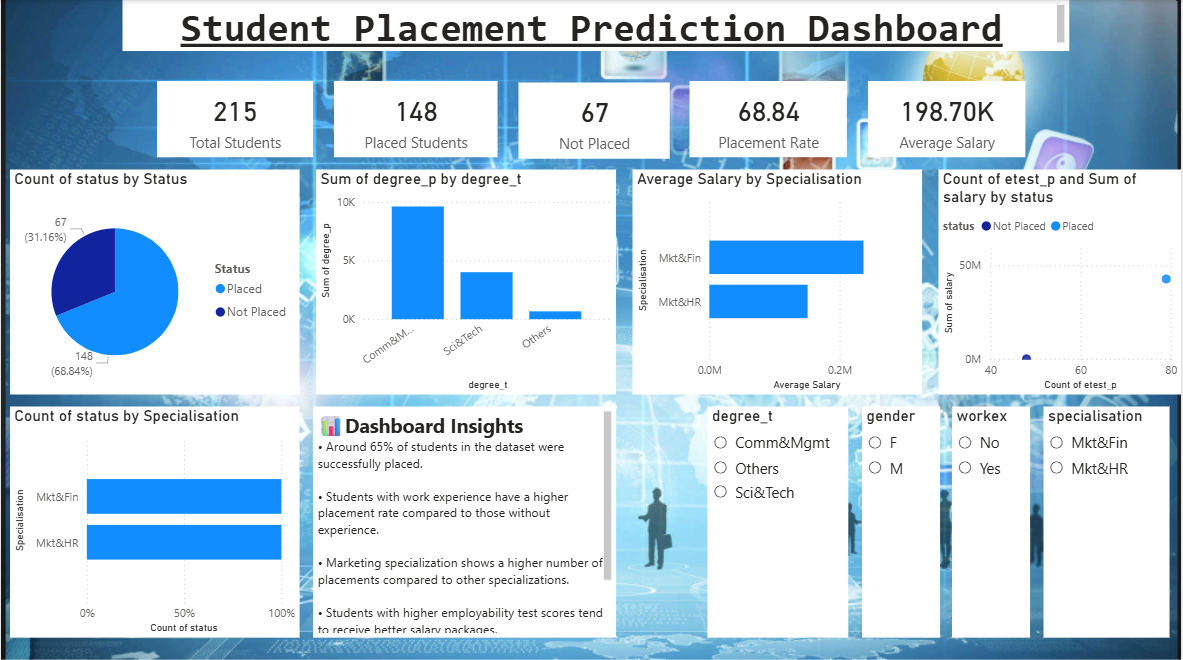

What the dashboard file says about the page in this screenshot:
{"tool":"powerbi","page":{"name":"Page 1","canvas":[1280,720],"ordinal":0},"visuals":[{"type":"textbox","box":[131.8,0,1026.3,55.3],"z":0},{"type":"card","fields":{"Values":["Placement_Data_Full_Class.Total Students"]},"box":[169.2,87.8,169.2,83],"z":1000},{"type":"card","fields":{"Values":["Placement_Data_Full_Class.Placed Students"]},"box":[360.7,87.8,177.3,83],"z":2000},{"type":"card","fields":{"Values":["Placement_Data_Full_Class.Not Placed"]},"box":[560.3,89.5,164.3,83],"z":3000},{"type":"card","fields":{"Values":["Placement_Data_Full_Class.Placement Rate"]},"box":[747,87.8,170.8,83],"z":4000},{"type":"card","fields":{"Values":["Placement_Data_Full_Class.Average Salary"]},"box":[940.1,87.8,170.8,83],"z":5000},{"type":"hundredPercentStackedBarChart","fields":{"Category":["Placement_Data_Full_Class.specialisation"],"Y":["CountNonNull(Placement_Data_Full_Class.status)"]},"box":[9.8,440.8,313.9,250.5],"z":6000},{"type":"pieChart","fields":{"Category":["Placement_Data_Full_Class.status"],"Y":["CountNonNull(Placement_Data_Full_Class.status)"]},"box":[9.8,183.8,313.9,244],"z":7000},{"type":"columnChart","fields":{"Category":["Placement_Data_Full_Class.degree_t"],"Y":["Sum(Placement_Data_Full_Class.degree_p)"]},"box":[341.6,183.8,325.3,244],"z":8000},{"type":"barChart","fields":{"Category":["Placement_Data_Full_Class.specialisation"],"Y":["Placement_Data_Full_Class.Average Salary"]},"box":[684.8,183.8,313.9,244],"z":9000},{"type":"scatterChart","fields":{"X":["Count(Placement_Data_Full_Class.etest_p)"],"Y":["Sum(Placement_Data_Full_Class.salary)"],"Series":["Placement_Data_Full_Class.status"]},"box":[1016.5,183.8,263.5,244],"z":10000},{"type":"listSlicer","fields":{"Values":["Placement_Data_Full_Class.gender"]},"box":[933.1,440.8,84.6,250.5],"z":11000},{"type":"listSlicer","fields":{"Values":["Placement_Data_Full_Class.specialisation"]},"box":[1130.4,440.8,136.6,250.5],"z":12000},{"type":"listSlicer","fields":{"Values":["Placement_Data_Full_Class.degree_t"]},"box":[766.1,440.8,152.9,250.5],"z":13000},{"type":"listSlicer","fields":{"Values":["Placement_Data_Full_Class.workex"]},"box":[1031.8,440.8,84.6,250.5],"z":14000},{"type":"textbox","box":[338.3,440.8,328.6,250.5],"z":15000}]}

Visuals, with their boxes in screenshot pixels (x1, y1, x2, y2), scaled from the page's 1280x720 canvas onto the 1183x660 screenshot:
textbox: (left=122, top=0, right=1070, bottom=51)
card - Placement_Data_Full_Class.Total Students: (left=156, top=80, right=313, bottom=157)
card - Placement_Data_Full_Class.Placed Students: (left=333, top=80, right=497, bottom=157)
card - Placement_Data_Full_Class.Not Placed: (left=518, top=82, right=670, bottom=158)
card - Placement_Data_Full_Class.Placement Rate: (left=690, top=80, right=848, bottom=157)
card - Placement_Data_Full_Class.Average Salary: (left=869, top=80, right=1027, bottom=157)
hundredPercentStackedBarChart - Placement_Data_Full_Class.specialisation x CountNonNull(Placement_Data_Full_Class.status): (left=9, top=404, right=299, bottom=634)
pieChart - Placement_Data_Full_Class.status x CountNonNull(Placement_Data_Full_Class.status): (left=9, top=168, right=299, bottom=392)
columnChart - Placement_Data_Full_Class.degree_t x Sum(Placement_Data_Full_Class.degree_p): (left=316, top=168, right=616, bottom=392)
barChart - Placement_Data_Full_Class.specialisation x Placement_Data_Full_Class.Average Salary: (left=633, top=168, right=923, bottom=392)
scatterChart - Count(Placement_Data_Full_Class.etest_p) x Sum(Placement_Data_Full_Class.salary): (left=939, top=168, right=1182, bottom=392)
listSlicer - Placement_Data_Full_Class.gender: (left=862, top=404, right=941, bottom=634)
listSlicer - Placement_Data_Full_Class.specialisation: (left=1045, top=404, right=1171, bottom=634)
listSlicer - Placement_Data_Full_Class.degree_t: (left=708, top=404, right=849, bottom=634)
listSlicer - Placement_Data_Full_Class.workex: (left=954, top=404, right=1032, bottom=634)
textbox: (left=313, top=404, right=616, bottom=634)
